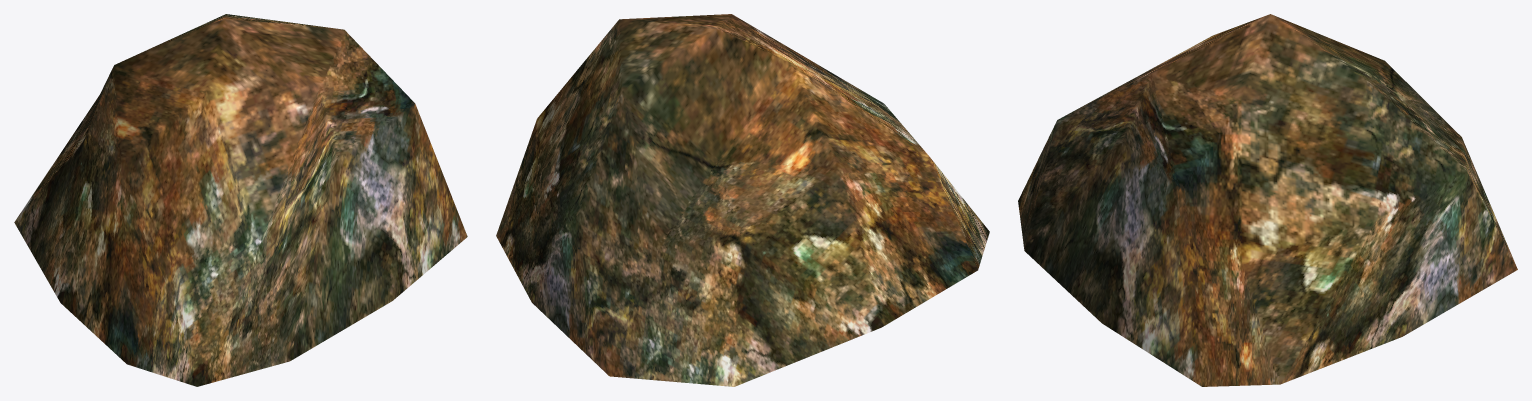
File: c_stone01.glb
3 renders of one model, left to right at view 1: azimuth 30°, elevation 25°; view 2: azimuth 150°, elevation 25°; view 3: azimuth 270°, elevation 25°, orthographic. The views are drawn at different scales.
Parts seen in each view (by area): view 1: c_stone01; view 2: c_stone01; view 3: c_stone01.
Part boxes in pixels (bbox=[...]): c_stone01: bbox=[14, 14, 467, 386]; c_stone01: bbox=[496, 14, 989, 386]; c_stone01: bbox=[1018, 14, 1517, 386].
Size of the model in its own units: 1.26 by 0.7695 by 1.33.
Materials: 1 (1 with a texture image).
